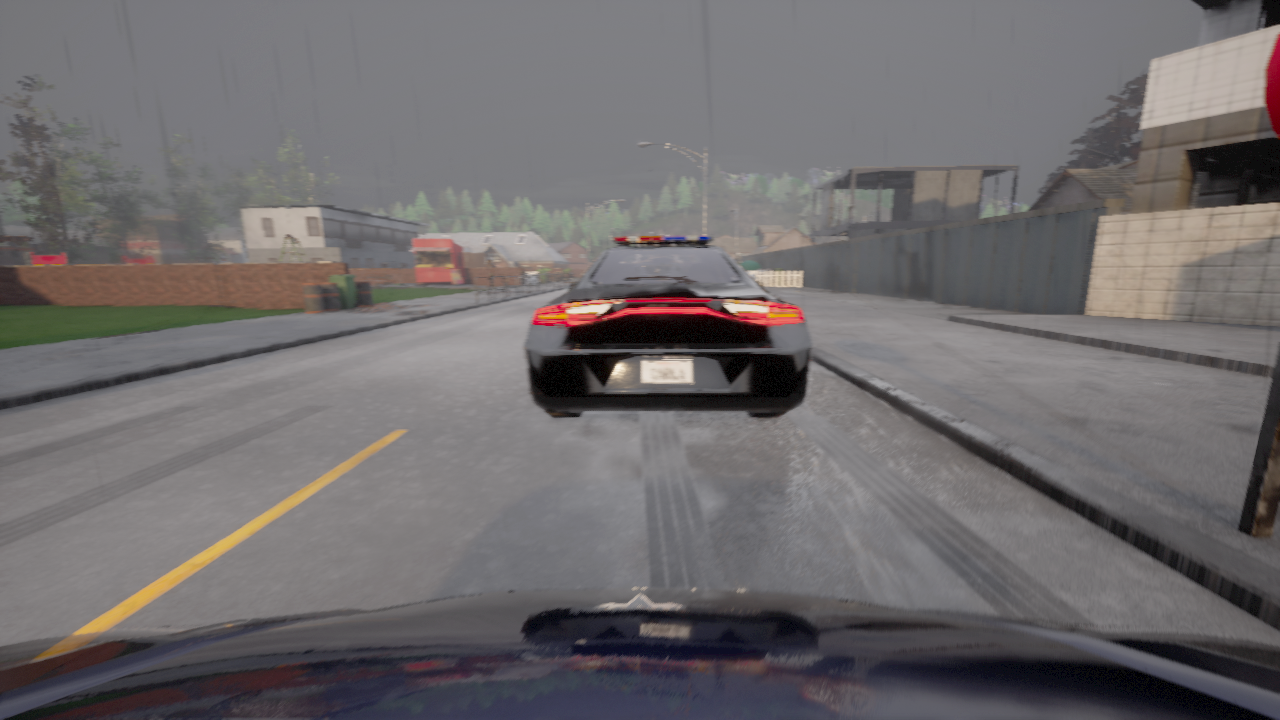cyclist: (0, 588, 1279, 719), (524, 235, 812, 417)
pedestrian: (485, 259, 497, 292)
